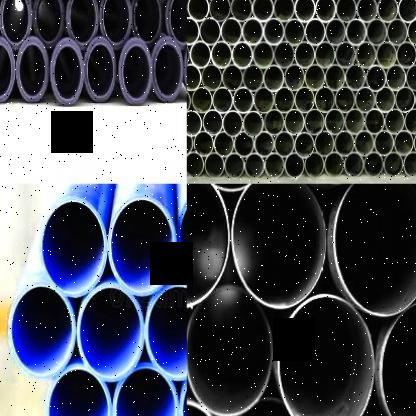pipe: (231, 184, 327, 309), (278, 296, 374, 416), (332, 184, 416, 317), (186, 285, 271, 416), (108, 195, 176, 296), (39, 197, 106, 298), (77, 281, 143, 382), (8, 281, 76, 378), (187, 184, 230, 309), (377, 299, 416, 416), (144, 282, 187, 380), (112, 362, 179, 416), (44, 365, 110, 416), (119, 38, 153, 104), (50, 38, 84, 104), (16, 36, 49, 102), (151, 36, 183, 102), (84, 37, 116, 102), (98, 0, 132, 49), (65, 0, 98, 48), (0, 0, 31, 49), (227, 398, 309, 416), (32, 0, 63, 47), (131, 0, 162, 46), (165, 0, 186, 49), (0, 35, 15, 102), (210, 39, 233, 69), (220, 16, 242, 46), (242, 16, 264, 46), (262, 17, 284, 46), (199, 17, 221, 45), (304, 18, 326, 46), (190, 40, 212, 68), (314, 40, 336, 68), (232, 40, 253, 69), (253, 40, 274, 69), (304, 62, 325, 91), (201, 62, 222, 91), (212, 85, 233, 114), (284, 107, 305, 136), (324, 63, 346, 90), (354, 86, 376, 113), (242, 109, 264, 136), (284, 18, 305, 46), (325, 18, 346, 46), (366, 18, 387, 46), (387, 18, 408, 46), (294, 40, 315, 68), (335, 40, 356, 68), (242, 63, 263, 91), (263, 63, 284, 91), (365, 63, 386, 91), (314, 85, 335, 113), (233, 86, 254, 114), (253, 86, 274, 114), (274, 40, 294, 69), (356, 40, 376, 69), (396, 40, 416, 69), (304, 107, 324, 136), (284, 63, 305, 90), (345, 63, 366, 90), (375, 86, 396, 113), (222, 109, 243, 136), (346, 18, 366, 46), (376, 41, 396, 69), (222, 63, 242, 91), (386, 63, 406, 91), (335, 85, 355, 113), (294, 85, 314, 113), (192, 86, 212, 114), (324, 107, 344, 135), (344, 107, 364, 135), (374, 129, 394, 157), (394, 129, 414, 157), (264, 151, 284, 179), (202, 109, 223, 135), (274, 86, 294, 113), (264, 108, 284, 135), (254, 130, 274, 157), (274, 130, 294, 157), (383, 150, 403, 177), (204, 151, 224, 178), (193, 131, 214, 156), (224, 152, 245, 177), (395, 86, 415, 112), (384, 108, 404, 134), (364, 108, 384, 134), (354, 130, 374, 156), (334, 130, 354, 156), (314, 130, 334, 156), (214, 131, 234, 157), (294, 131, 314, 157), (344, 151, 364, 177), (324, 151, 344, 177), (284, 152, 304, 178), (364, 150, 383, 177), (304, 152, 324, 177), (245, 152, 264, 178), (272, 0, 294, 22), (376, 0, 398, 22), (356, 0, 378, 22), (234, 132, 254, 156), (187, 0, 209, 21), (209, 0, 231, 21), (230, 0, 252, 21), (252, 0, 274, 21), (294, 0, 315, 22), (315, 0, 336, 22), (187, 150, 204, 176), (336, 0, 356, 22), (187, 62, 201, 91), (398, 0, 416, 22), (187, 109, 202, 135), (187, 16, 199, 45), (403, 150, 416, 176), (404, 107, 416, 133), (405, 63, 416, 91), (407, 18, 416, 46), (187, 130, 193, 156), (413, 128, 416, 156), (414, 86, 416, 112)
